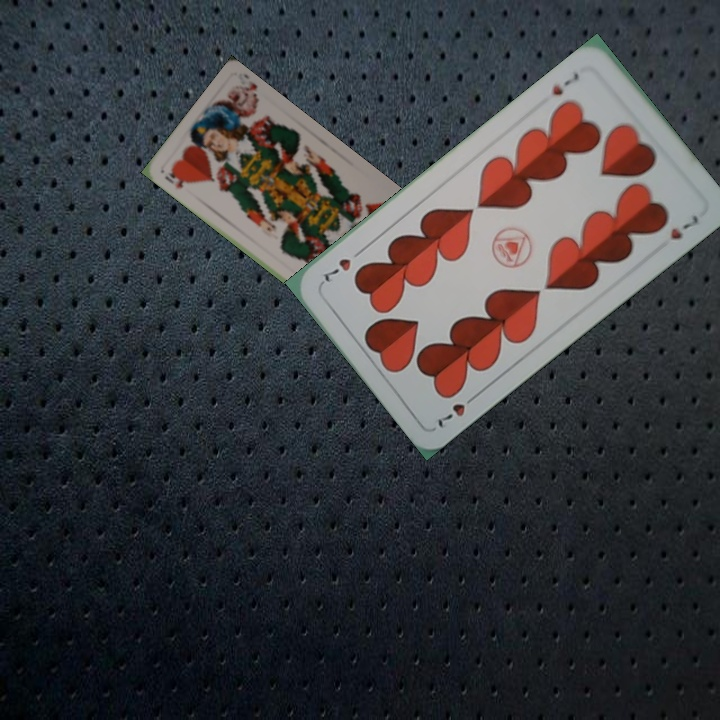H7: (433, 388, 481, 431), (548, 68, 582, 99)
HO: (161, 166, 186, 193)
